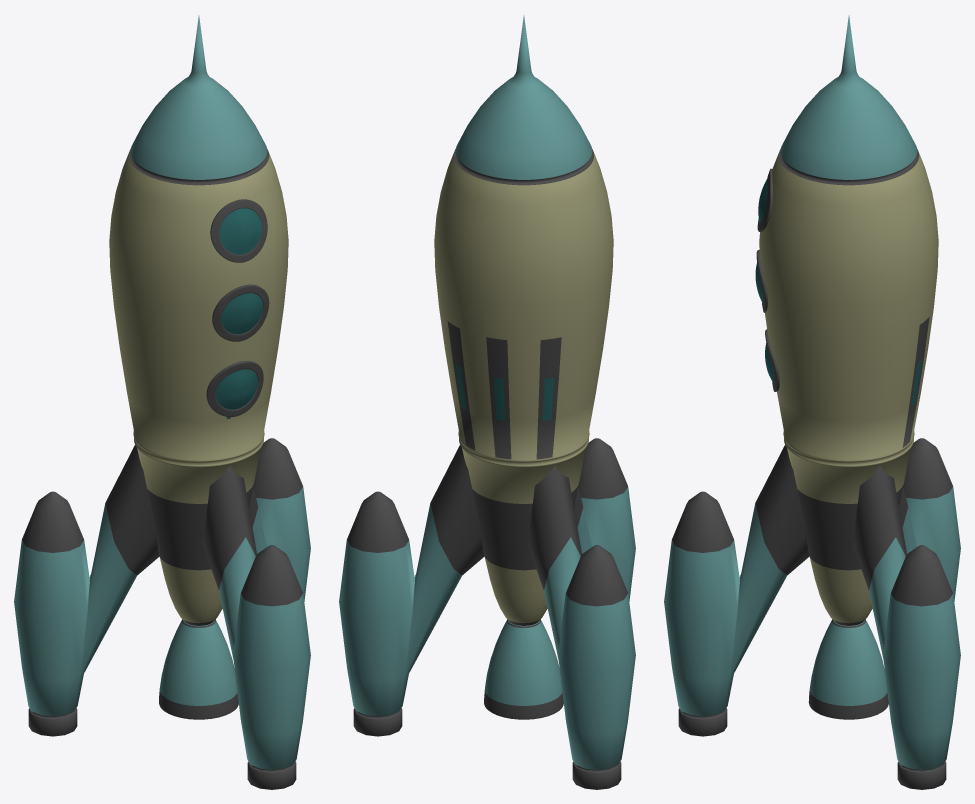
3 renders of one model, left to right at view 1: azimuth 30°, elevation 25°; view 2: azimuth 150°, elevation 25°; view 3: azimuth 270°, elevation 25°, orthographic.
Visible parts, largest first — view 1: R1; view 2: R1; view 3: R1.
Part boxes in pixels (x1,y1,x2,y2): R1: (14,15,310,789); R1: (339,15,635,789); R1: (664,15,960,789).
Bounding box in the file's own units: 202 × 480 × 181.
